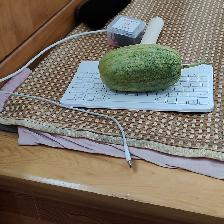gua: (95, 45, 191, 92)
